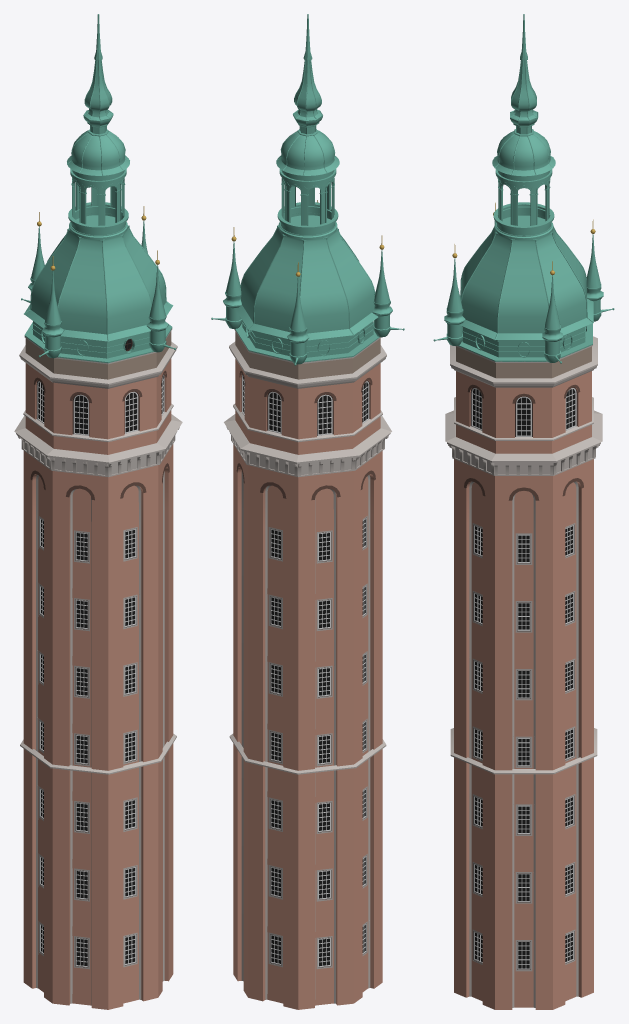
File: tower2_1.fbx
3 renders of one model, left to right at view 1: azimuth 30°, elevation 25°; view 2: azimuth 150°, elevation 25°; view 3: azimuth 270°, elevation 25°, orthographic.
Visible parts, largest first — view 1: Unity_Export_Mesh.003; view 2: Unity_Export_Mesh.003; view 3: Unity_Export_Mesh.003.
Part boxes in pixels (x1,y1,x2,y2): Unity_Export_Mesh.003: (14, 14, 182, 1009); Unity_Export_Mesh.003: (211, 14, 404, 1009); Unity_Export_Mesh.003: (433, 14, 614, 1009).
Size of the model in its own units: 143 by 843 by 143.
